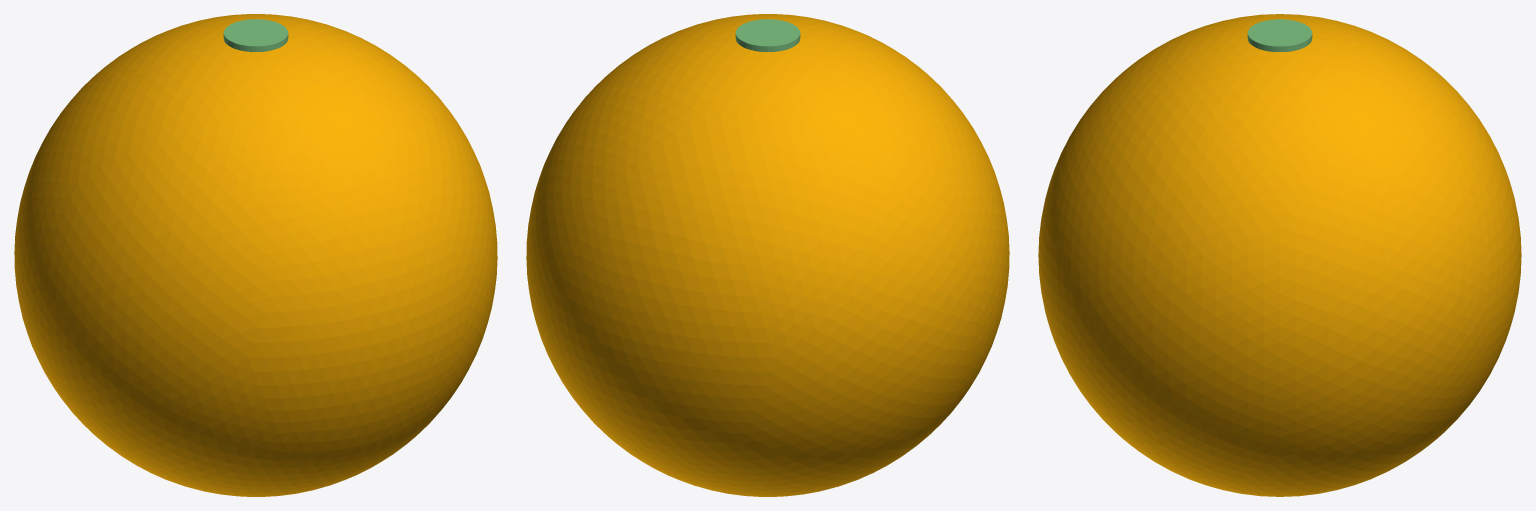
The model's file is orange.glb.
3 views of the same model, side by side, from view 1: azimuth 30°, elevation 25°; view 2: azimuth 150°, elevation 25°; view 3: azimuth 270°, elevation 25° (orthographic).
Parts seen in each view (by area): view 1: orange_0, orange_1; view 2: orange_0, orange_1; view 3: orange_0, orange_1.
Boxes of the visible parts, x1,y1,x2,y2 form: orange_0: (14, 14, 497, 496); orange_1: (223, 19, 288, 51); orange_0: (526, 14, 1009, 496); orange_1: (735, 19, 800, 51); orange_0: (1038, 14, 1521, 496); orange_1: (1247, 19, 1312, 51).
Size of the model in its own units: 0.06 by 0.0605 by 0.06.
